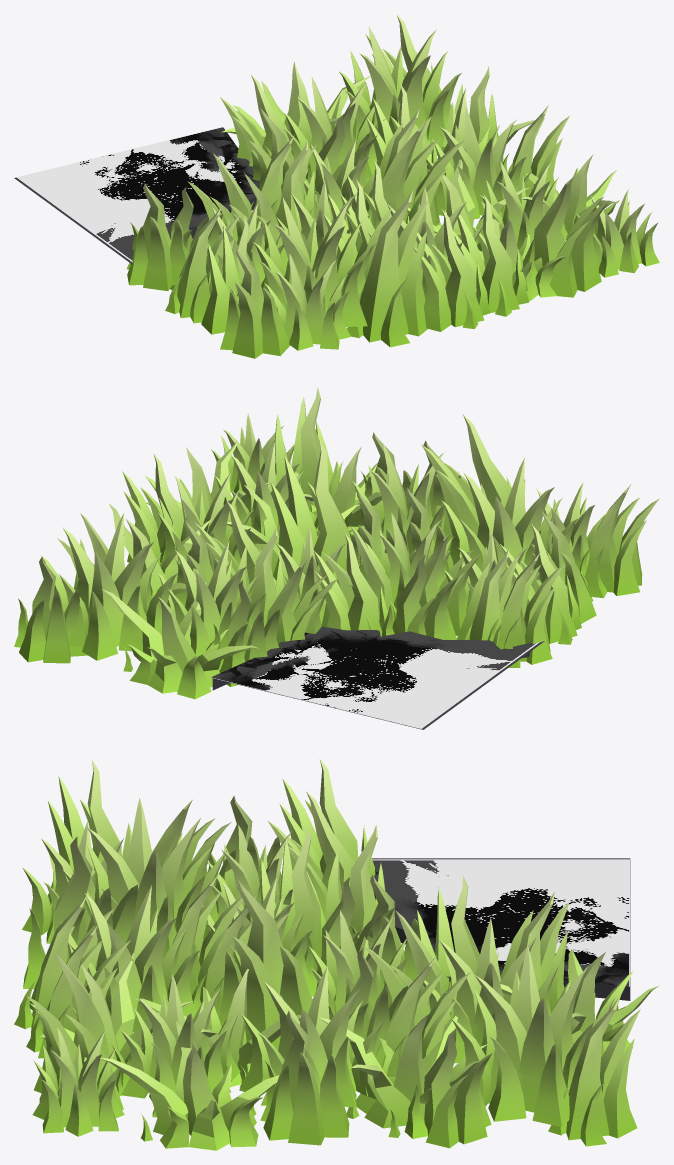
The model's file is Alt Sag Yesil.fbx.
The picture shows the model from 3 angles, top to bottom: view 1: azimuth 30°, elevation 25°; view 2: azimuth 150°, elevation 25°; view 3: azimuth 270°, elevation 25°; orthographic projection. The views are drawn at different scales.
Visible parts, largest first — view 1: altsagyesil; view 2: altsagyesil; view 3: altsagyesil.
Boxes of the visible parts, x1,y1,x2,y2 form: altsagyesil: (14, 15, 659, 358); altsagyesil: (14, 387, 659, 729); altsagyesil: (14, 759, 659, 1150).
Size of the model in its own units: 215 by 63.12 by 214.
